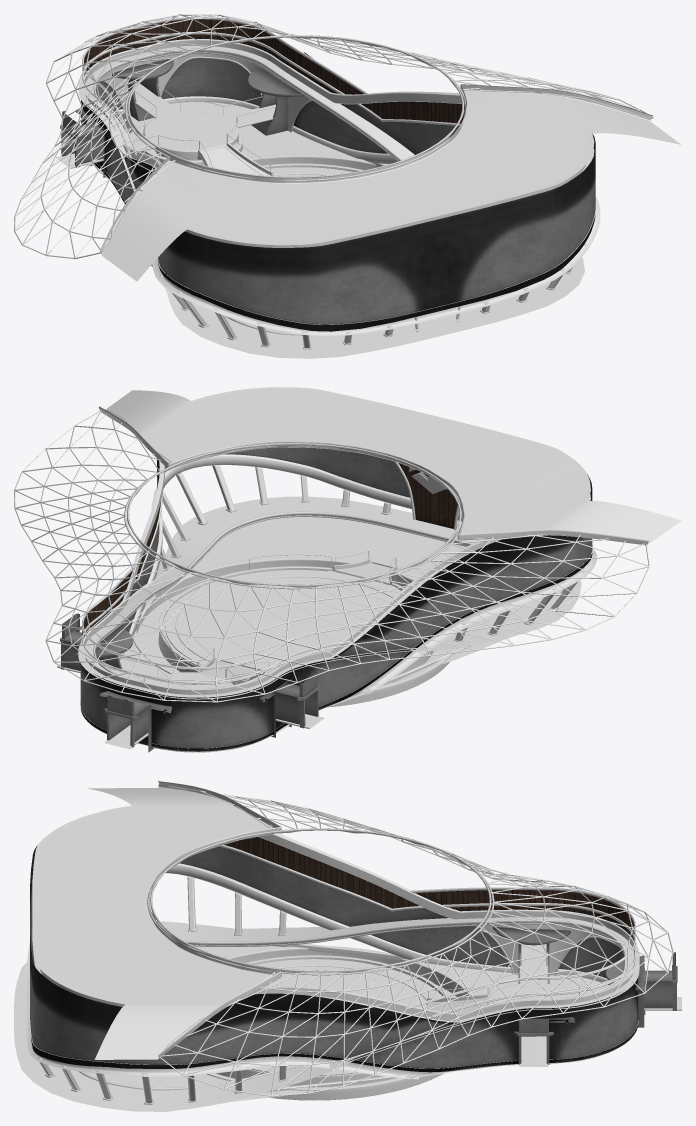
The picture shows the model from 3 angles, top to bottom: view 1: azimuth 30°, elevation 25°; view 2: azimuth 150°, elevation 25°; view 3: azimuth 270°, elevation 25°; orthographic projection. The views are drawn at different scales.
Visible parts, largest first — view 1: Wall Outer_Baked, Roof Wing_Baked, Platform Upper_Baked, Roof Wires, Wall Upper Rails, Floor_Baked, Wall Rail Upper_Baked, Wall Detail Large_Baked, Wall Rail Lower_Baked, Room Entryways.001_Baked, Wall Detail Small_Baked, Pillars Large (+2 smaller); view 2: Roof Wing_Baked, Wall Outer_Baked, Floor_Baked, Roof Wires, Platform Upper_Baked, Wall Upper Rails, Wall Rail Lower_Baked, Room Entryways.001_Baked, Wall Rail Upper_Baked, Pillars Large, Wall Detail Large_Baked, Floor Center Ring Ramp_Baked (+2 smaller); view 3: Wall Outer_Baked, Roof Wing_Baked, Platform Upper_Baked, Roof Wires, Floor_Baked, Wall Upper Rails, Wall Rail Upper_Baked, Wall Rail Lower_Baked, Wall Detail Large_Baked, Room Entryways.001_Baked, Pillars Large, Wall Detail Small_Baked (+2 smaller).
Part boxes in pixels (x1=…): Wall Outer_Baked: x1=81, y1=58, x2=595, y2=331; Roof Wing_Baked: x1=99, y1=84, x2=681, y2=281; Platform Upper_Baked: x1=56, y1=45, x2=581, y2=351; Roof Wires: x1=14, y1=14, x2=653, y2=258; Wall Upper Rails: x1=82, y1=16, x2=466, y2=335; Floor_Baked: x1=91, y1=102, x2=584, y2=358; Wall Rail Upper_Baked: x1=81, y1=39, x2=594, y2=247; Wall Detail Large_Baked: x1=82, y1=19, x2=464, y2=123; Wall Rail Lower_Baked: x1=96, y1=96, x2=600, y2=336; Room Entryways.001_Baked: x1=60, y1=52, x2=312, y2=177; Wall Detail Small_Baked: x1=102, y1=53, x2=310, y2=131; Pillars Large: x1=160, y1=215, x2=596, y2=349; Roof Wing_Baked: x1=99, y1=389, x2=681, y2=545; Wall Outer_Baked: x1=80, y1=447, x2=592, y2=751; Floor_Baked: x1=93, y1=497, x2=581, y2=752; Roof Wires: x1=14, y1=410, x2=649, y2=702; Platform Upper_Baked: x1=57, y1=496, x2=577, y2=749; Wall Upper Rails: x1=82, y1=443, x2=524, y2=688; Wall Rail Lower_Baked: x1=80, y1=454, x2=596, y2=752; Room Entryways.001_Baked: x1=60, y1=613, x2=319, y2=752; Wall Rail Upper_Baked: x1=81, y1=387, x2=590, y2=694; Pillars Large: x1=160, y1=465, x2=592, y2=642; Wall Detail Large_Baked: x1=82, y1=462, x2=457, y2=638; Floor Center Ring Ramp_Baked: x1=332, y1=558, x2=397, y2=585; Wall Outer_Baked: x1=30, y1=845, x2=638, y2=1072; Roof Wing_Baked: x1=36, y1=781, x2=281, y2=1059; Platform Upper_Baked: x1=30, y1=917, x2=681, y2=1111; Roof Wires: x1=158, y1=785, x2=673, y2=1096; Floor_Baked: x1=14, y1=946, x2=625, y2=1111; Wall Upper Rails: x1=78, y1=828, x2=635, y2=1090; Wall Rail Upper_Baked: x1=32, y1=805, x2=637, y2=1024; Wall Rail Lower_Baked: x1=25, y1=863, x2=638, y2=1079; Wall Detail Large_Baked: x1=224, y1=837, x2=634, y2=940; Room Entryways.001_Baked: x1=492, y1=926, x2=677, y2=1064; Pillars Large: x1=29, y1=876, x2=287, y2=1104; Wall Detail Small_Baked: x1=480, y1=924, x2=612, y2=975.
Size of the model in its own units: 5415 by 1129 by 5171.
